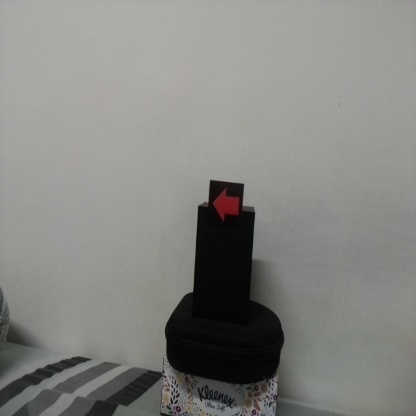id_4: (210, 182, 243, 229)
